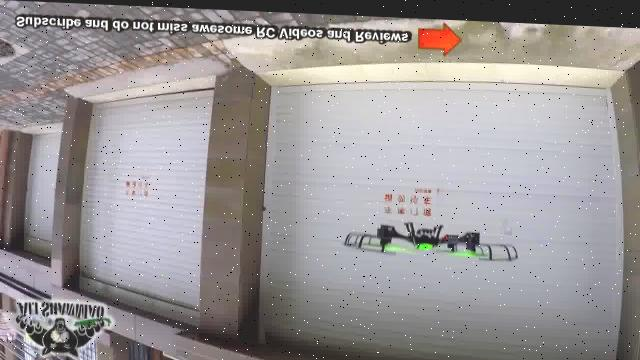drone: (346, 218, 514, 268)
